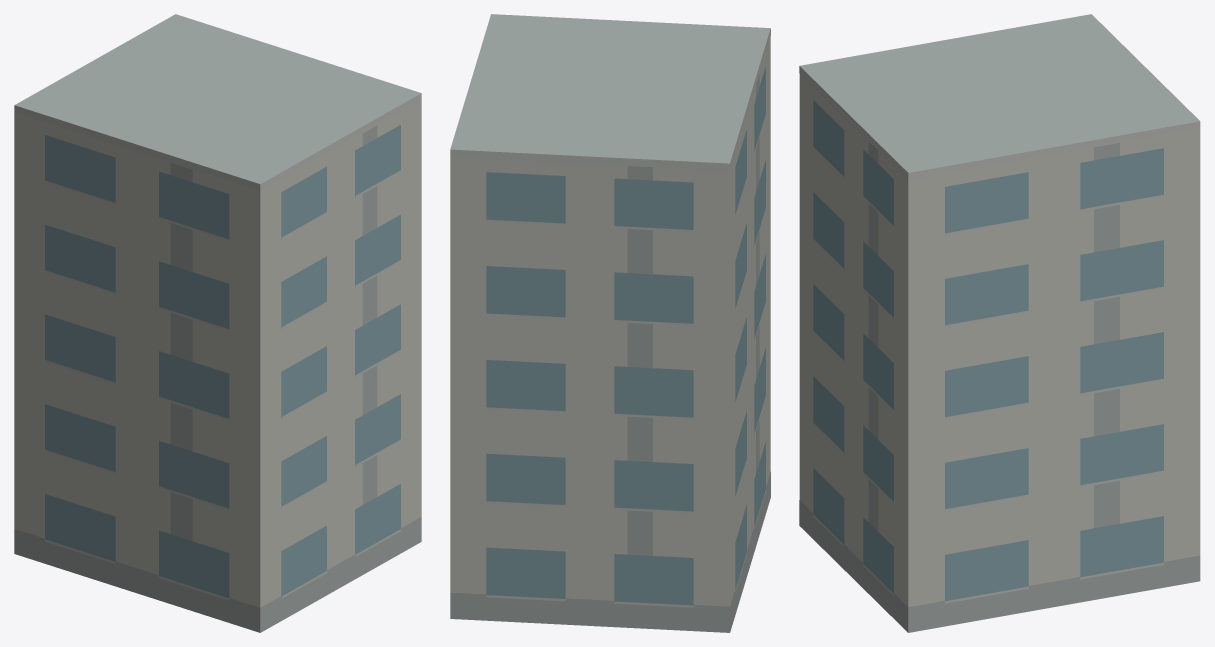
File: survey-upis-32991189.glb
3 views of the same model, side by side, from view 1: azimuth 30°, elevation 25°; view 2: azimuth 150°, elevation 25°; view 3: azimuth 270°, elevation 25° (orthographic). The views are drawn at different scales.
Parts seen in each view (by area): view 1: survey-upis-32991189.tmp; view 2: survey-upis-32991189.tmp; view 3: survey-upis-32991189.tmp.
Part boxes in pixels (x1,y1,x2,y2): survey-upis-32991189.tmp: (14,14,421,632); survey-upis-32991189.tmp: (450,14,770,632); survey-upis-32991189.tmp: (799,14,1200,632).
Size of the model in its own units: 11.31 by 15.25 by 12.06.
